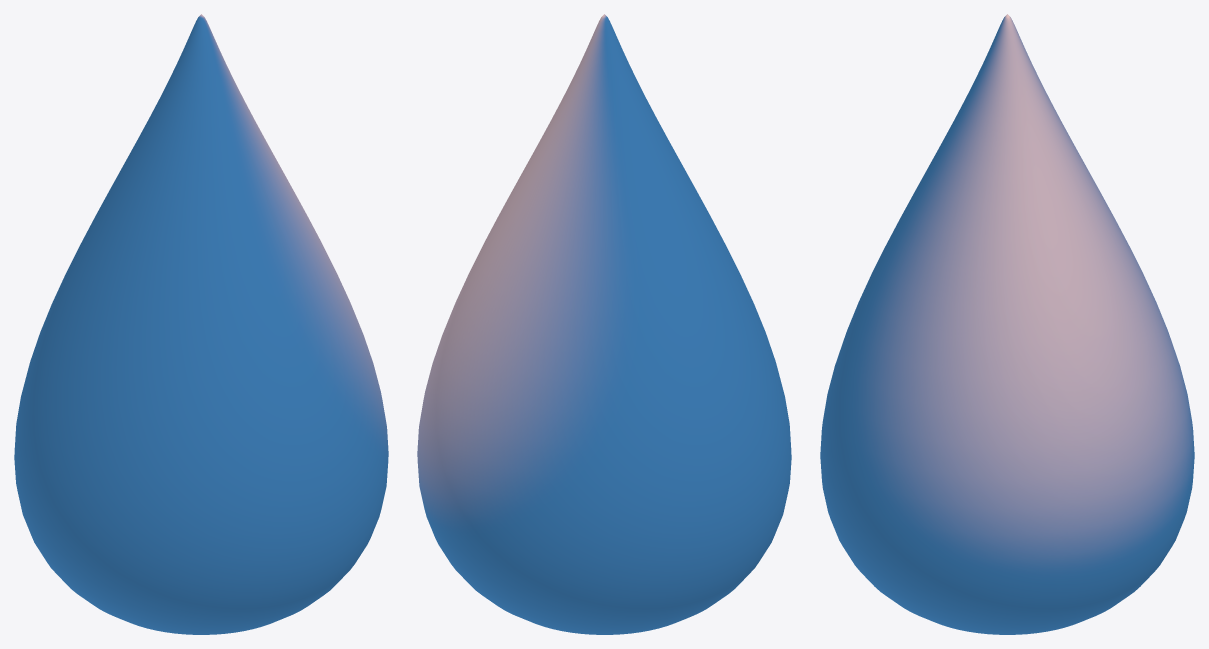
The model's file is player.glb.
3 renders of one model, left to right at view 1: azimuth 30°, elevation 25°; view 2: azimuth 150°, elevation 25°; view 3: azimuth 270°, elevation 25°, orthographic.
Parts seen in each view (by area): view 1: 球体.001; view 2: 球体.001; view 3: 球体.001.
Part boxes in pixels (box(x1,y1,x2,y2)): 球体.001: box(14, 14, 388, 634); 球体.001: box(417, 14, 791, 634); 球体.001: box(820, 14, 1194, 634).
Size of the model in its own units: 0.8185 by 1.45 by 0.8185.
Materials: 1 (1 with a texture image).
